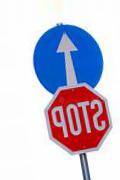forward: (34, 24, 102, 85)
